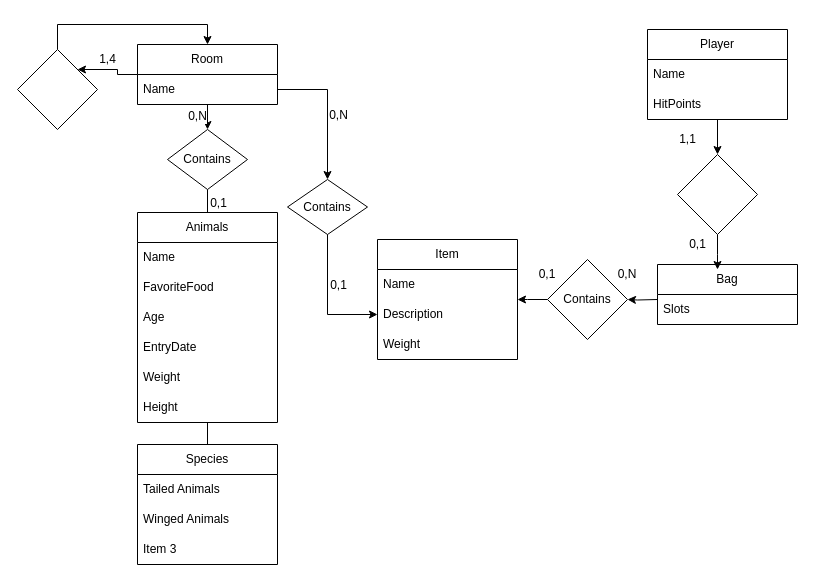
Image size: 815x582. Some labels were removed from this diagram. Each missing label, with the centre of its shape:
Door: [57,89]
Has: [717,194]
